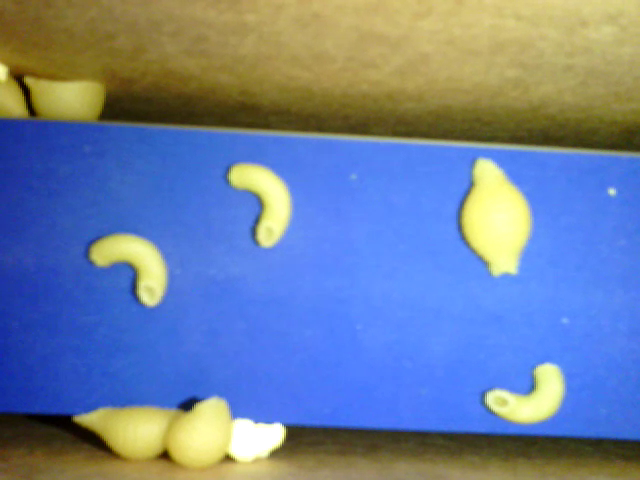elbow: (458, 158, 530, 276), (90, 234, 168, 307), (228, 164, 293, 248), (484, 362, 566, 422)
shell: (72, 403, 187, 458), (167, 392, 230, 467), (22, 74, 109, 120)
